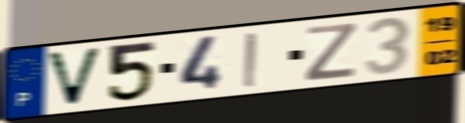3: (363, 15, 416, 77)
4: (175, 33, 230, 96)
5: (105, 38, 161, 103)
I: (241, 30, 260, 90)
V: (43, 45, 106, 108)
Z: (302, 21, 360, 83)
